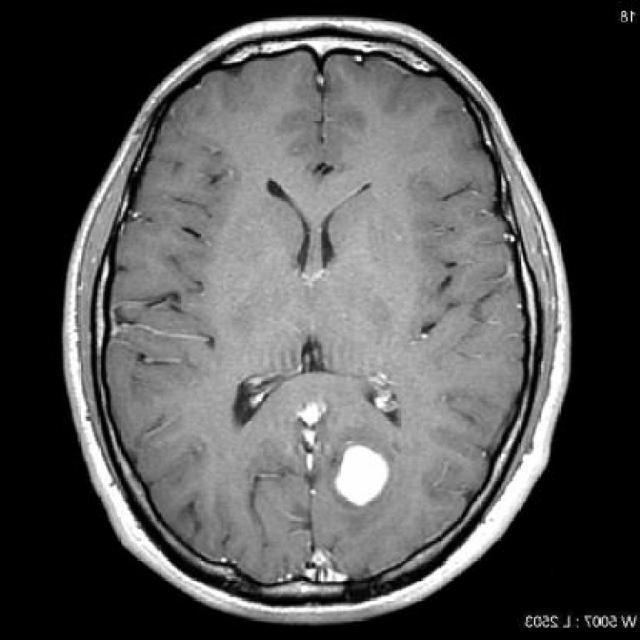Brain-Tumor: (326, 434, 398, 518)
